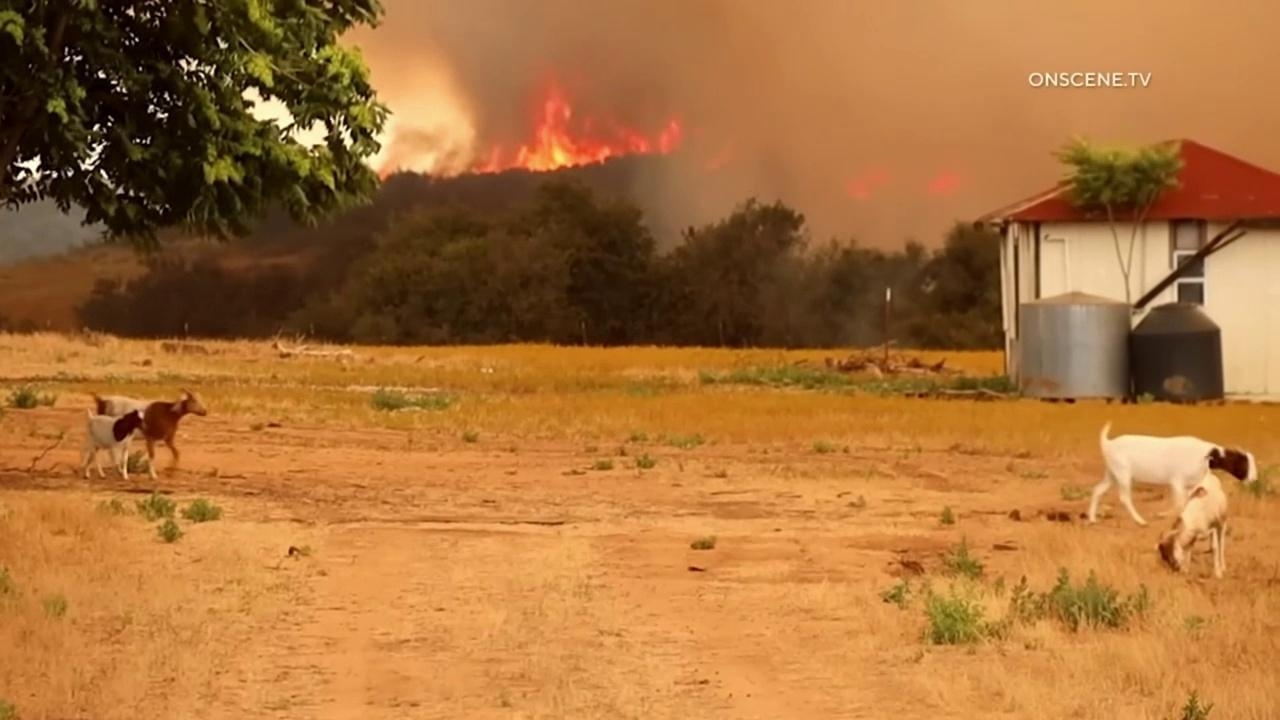fire: (470, 74, 683, 175), (846, 167, 889, 201), (928, 174, 956, 194), (379, 170, 387, 182)
smoke: (330, 0, 1280, 256)
